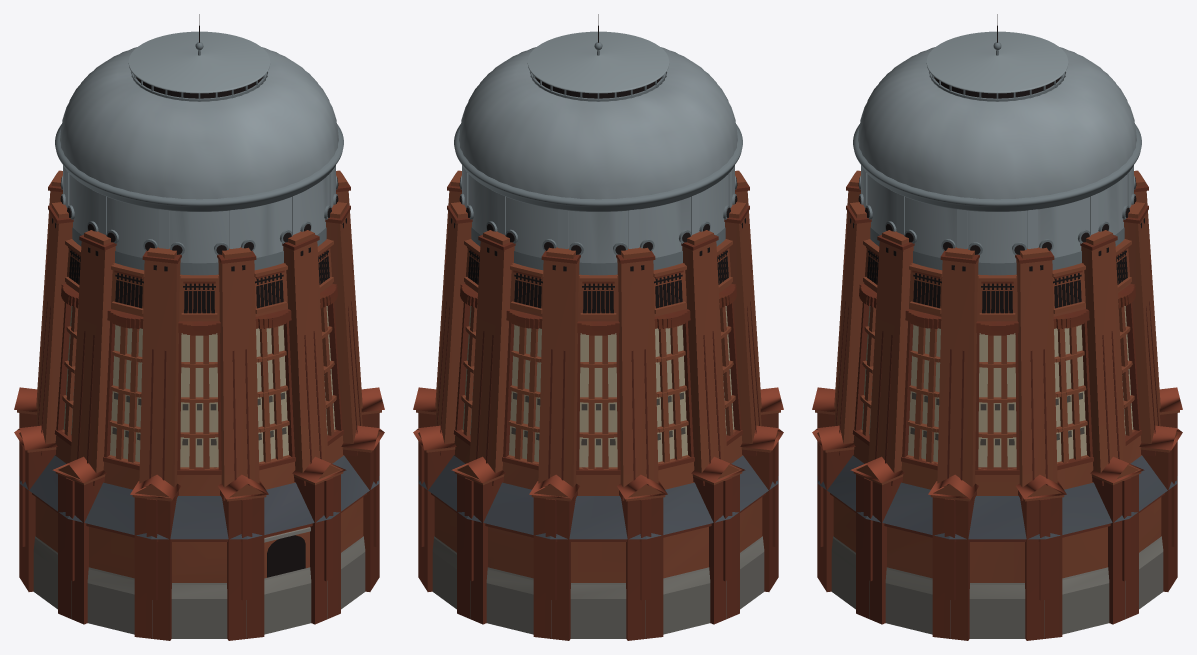
3 renders of one model, left to right at view 1: azimuth 30°, elevation 25°; view 2: azimuth 150°, elevation 25°; view 3: azimuth 270°, elevation 25°, orthographic.
Parts seen in each view (by area): view 1: deposito_elevado, deposito_cuba; view 2: deposito_elevado, deposito_cuba; view 3: deposito_elevado, deposito_cuba.
Part boxes in pixels (<box>): deposito_elevado: <box>14,170,384,640</box>; deposito_cuba: <box>55,14,343,275</box>; deposito_elevado: <box>413,170,783,640</box>; deposito_cuba: <box>454,14,742,275</box>; deposito_elevado: <box>812,170,1182,640</box>; deposito_cuba: <box>853,14,1141,275</box>.
Bounding box in the file's own units: 25.15 × 41.2 × 25.15.
